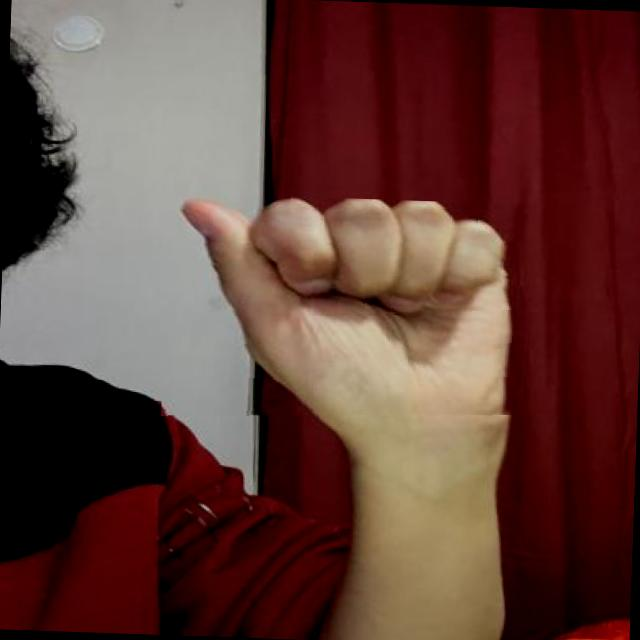A: (160, 192, 536, 428)
